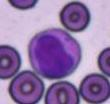M: (28, 27, 82, 80)
